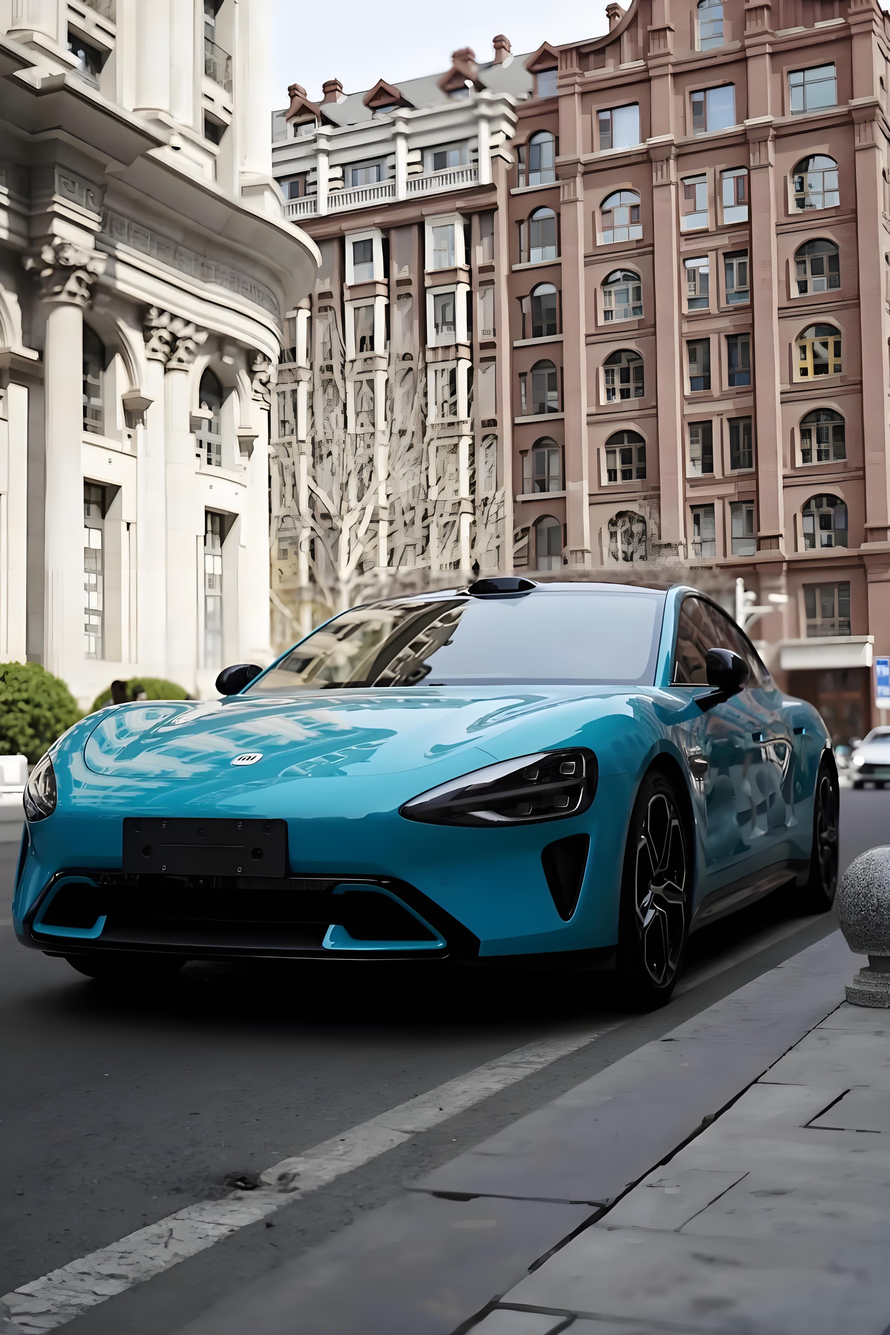XIAOMI: (231, 753, 263, 765)
